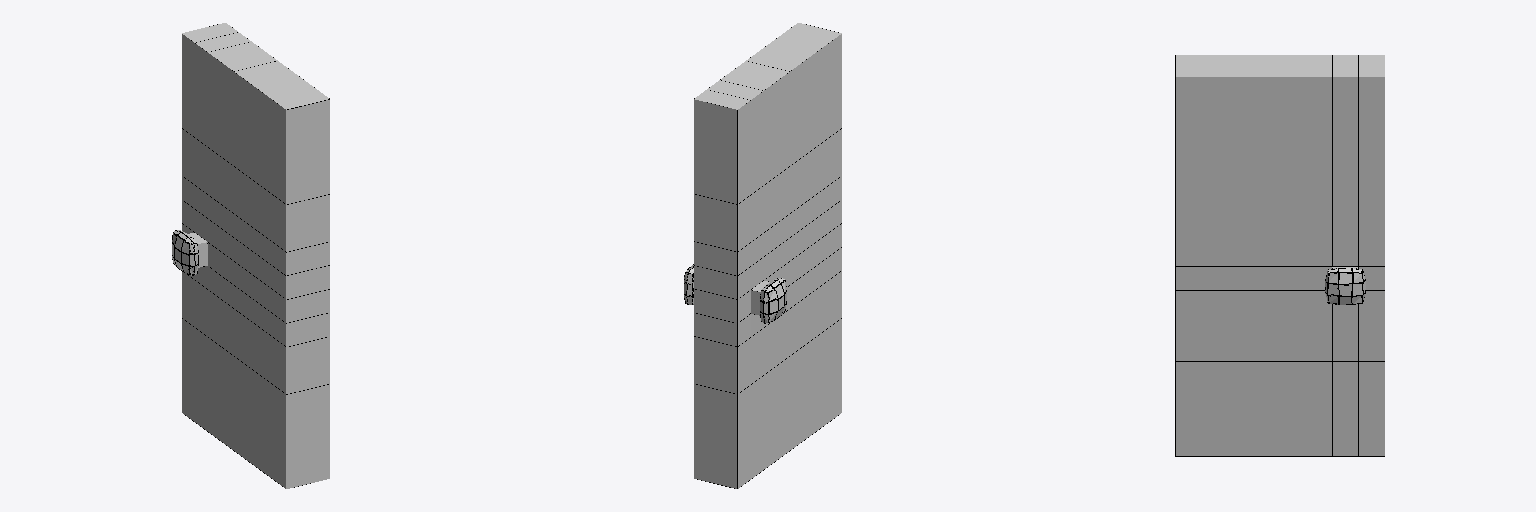
3 views of the same model, side by side, from view 1: azimuth 30°, elevation 25°; view 2: azimuth 150°, elevation 25°; view 3: azimuth 270°, elevation 25° (orthographic).
Parts seen in each view (by area): view 1: door_Cube.009; view 2: door_Cube.009; view 3: door_Cube.009.
Boxes of the visible parts, box(x1,y1,x2,y2) form: door_Cube.009: box(172, 23, 329, 488); door_Cube.009: box(684, 23, 841, 488); door_Cube.009: box(1175, 55, 1384, 456).
Size of the model in its own units: 1.01 by 4 by 2.
Materials: 1 (1 with a texture image).